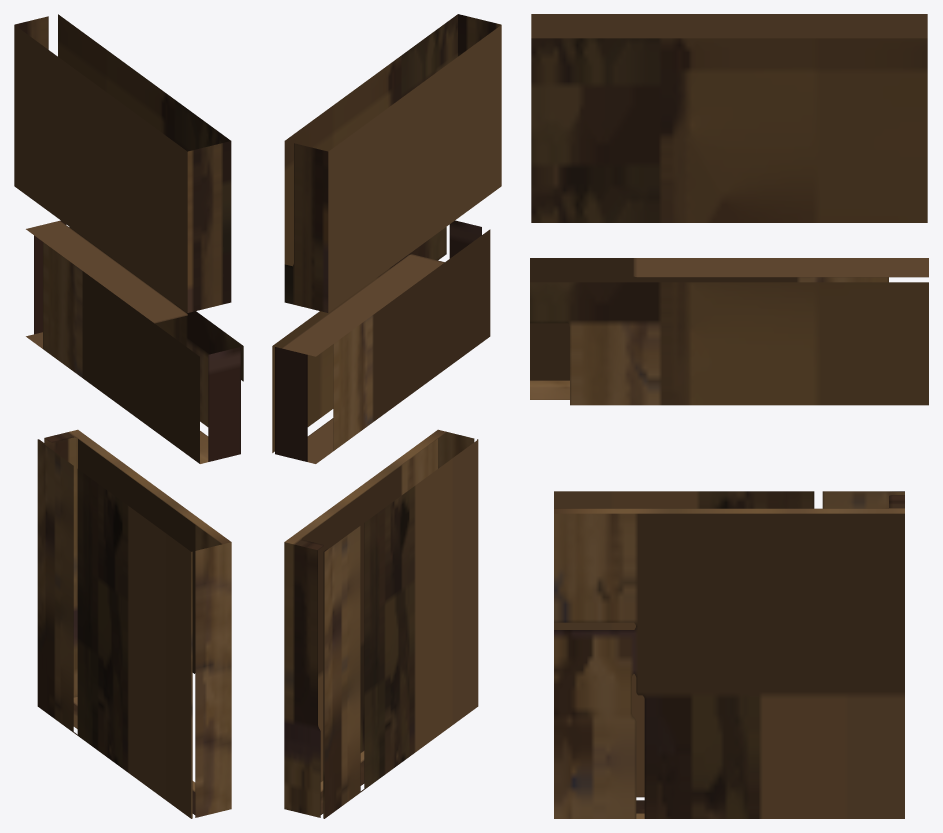
The model's file is section-3.obj.
3 views of the same model, side by side, from view 1: azimuth 30°, elevation 25°; view 2: azimuth 150°, elevation 25°; view 3: azimuth 270°, elevation 25° (orthographic). The views are drawn at different scales.
Size of the model in its own units: 0.07 by 0.8144 by 0.38.
